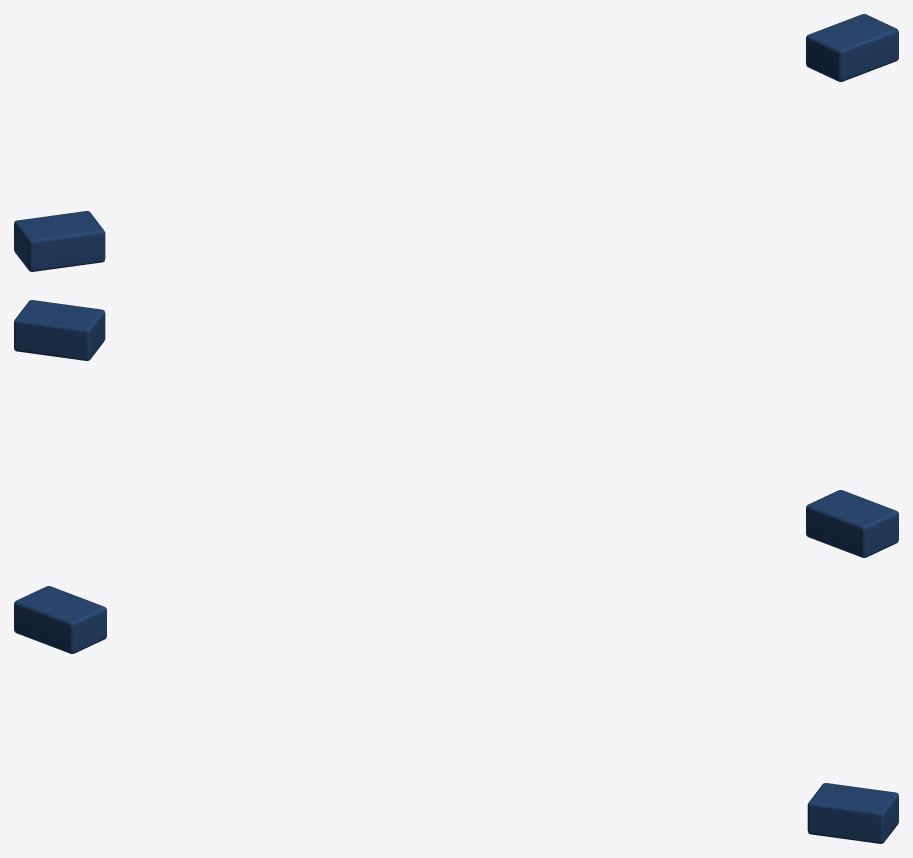
File: GEO_Mirror.glb
3 views of the same model, one above another, from view 1: azimuth 30°, elevation 25°; view 2: azimuth 150°, elevation 25°; view 3: azimuth 330°, elevation 25° (orthographic).
Parts seen in each view (by area): view 1: GEO_Mirror; view 2: GEO_Mirror; view 3: GEO_Mirror.
Boxes of the visible parts, x1,y1,x2,y2 form: GEO_Mirror: [14, 14, 898, 271]; GEO_Mirror: [14, 300, 898, 557]; GEO_Mirror: [14, 586, 898, 843].
Size of the model in its own units: 2.24 by 0.08 by 0.1515.
